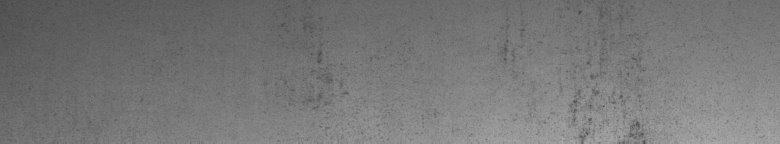ib: (498, 8, 647, 136)
